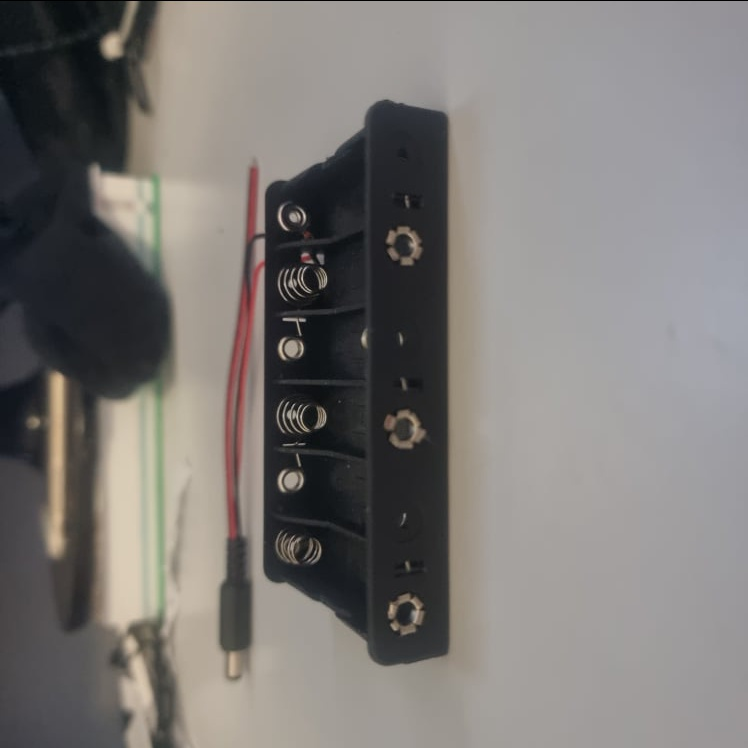BATTERY BOX: (264, 99, 450, 667)
